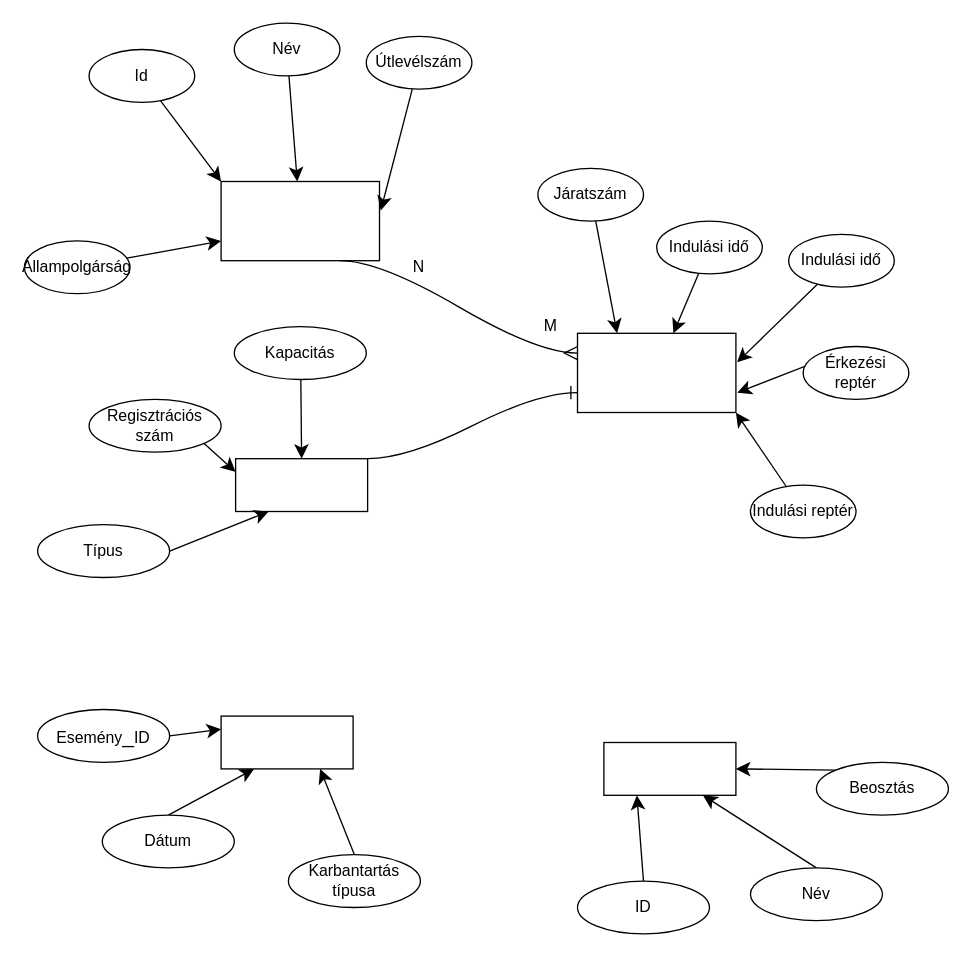
Some shapes in this 972 by 957 pixel diagram are drawn without their labels. Here are the shapes that lost their labels. From the top down, the centre of each, then its label:
the point at 300,220: Utasok
the point at 656,372: Járat
the point at 301,484: Repülőgép
the point at 286,742: Entity
the point at 669,768: Személyzet
